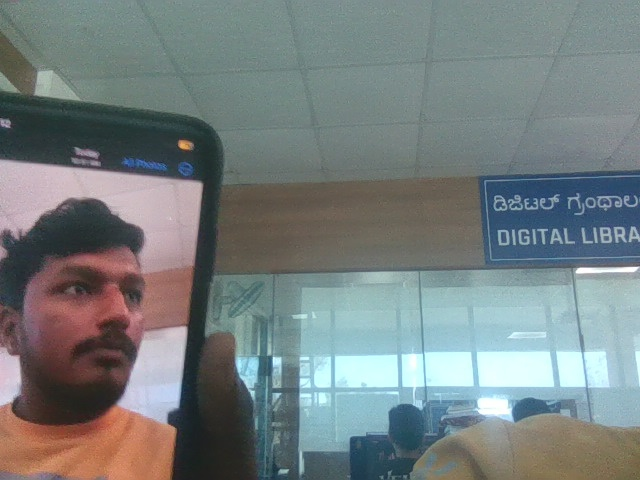fake: (6, 173, 174, 411)
